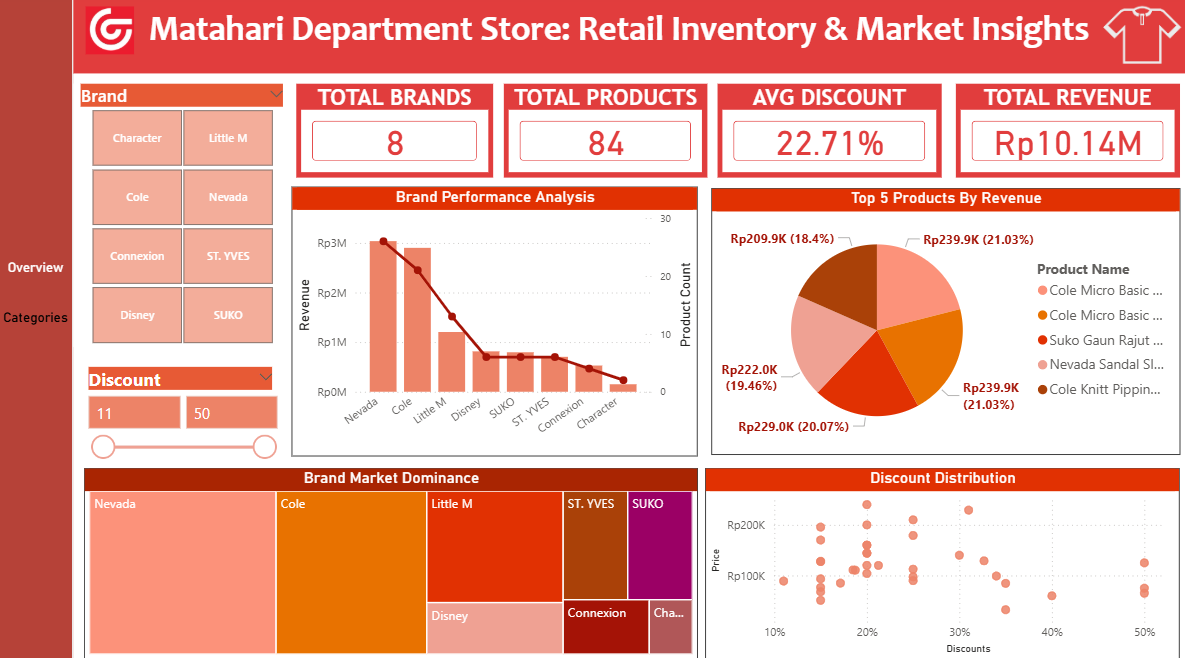

Layout of this report page (visuals, bound fields, positions):
{"tool":"powerbi","page":{"name":"OVERVIEW","canvas":[1280,720],"ordinal":0},"visuals":[{"type":"shape","box":[80.6,0,1198.8,86.3],"z":0},{"type":"textbox","box":[156.9,10.1,1023.2,59],"z":1000},{"type":"image","box":[93.5,10.1,51.8,60.4],"z":2000},{"type":"cardVisual","title":"TOTAL BRANDS","fields":{"Data":["Sum(kpi.total_brands)"]},"box":[319.5,97.9,211.6,100.7],"z":3000},{"type":"cardVisual","title":"TOTAL PRODUCTS","fields":{"Data":["Sum(kpi.total_products)"]},"box":[542.6,97.9,218.7,100.7],"z":4000},{"type":"cardVisual","title":"TOTAL REVENUE","fields":{"Data":["Sum(kpi.total_revenue)"]},"box":[1029,97.9,240.3,100.7],"z":5000},{"type":"cardVisual","title":"AVG DISCOUNT","fields":{"Data":["coda_P0M1_zafirah_aida.Disc yg bener"]},"box":[772.8,97.9,240.3,100.7],"z":6000},{"type":"shape","box":[0,0,80.6,719.6],"z":7000},{"type":"slicer","fields":{"Values":["Analisis Dominasi Pasar.brand"]},"box":[80.6,97.9,233.1,282.1],"z":8000},{"type":"slicer","fields":{"Values":["coda_P0M1_zafirah_aida.diskon"]},"box":[84.9,395.8,223.1,154],"z":9000},{"type":"treemap","title":"Brand Market Dominance","fields":{"Group":["Analisis Dominasi Pasar.brand"],"Values":["Sum(Analisis Dominasi Pasar.market_share_percentage)"]},"box":[92.1,509.5,659.1,205.8],"z":10000},{"type":"lineClusteredColumnComboChart","title":"Brand Performance Analysis","fields":{"Category":["Analisis Dominasi Pasar.brand"],"Y":["Sum(coda_P0M1_zafirah_aida.price)"],"Y2":["Sum(Analisis Dominasi Pasar.product_count)"]},"box":[315.2,207.2,436.1,289.3],"z":11000},{"type":"pieChart","title":"Top 5 Products By Revenue","fields":{"Category":["coda_P0M1_zafirah_aida.product_name"],"Y":["Sum(coda_P0M1_zafirah_aida.price)"]},"box":[765.6,210.1,503.7,286.4],"z":12000},{"type":"scatterChart","title":"Discount Distribution","fields":{"X":["coda_P0M1_zafirah_aida.Disc yg bener"],"Y":["coda_P0M1_zafirah_aida.price"]},"box":[759.9,509.5,509.5,205.8],"z":13000},{"type":"actionButton","title":"Overview","box":[0,285,80.6,40.3],"z":14000},{"type":"actionButton","title":"Categories","box":[0,339.6,80.6,40.3],"z":15000},{"type":"image","box":[1184.4,2.9,86.3,83.5],"z":16000}]}

Visuals, with their boxes in screenshot pixels (x1, y1, x2, y2), scaled from the page's 1280x720 canvas onto the 1185x658 screenshot:
shape: select_region(75, 0, 1184, 79)
textbox: select_region(145, 9, 1093, 63)
image: select_region(87, 9, 135, 64)
"TOTAL BRANDS" cardVisual: select_region(296, 89, 492, 181)
"TOTAL PRODUCTS" cardVisual: select_region(502, 89, 705, 181)
"TOTAL REVENUE" cardVisual: select_region(953, 89, 1175, 181)
"AVG DISCOUNT" cardVisual: select_region(715, 89, 938, 181)
shape: select_region(0, 0, 75, 657)
slicer - Analisis Dominasi Pasar.brand: select_region(75, 89, 290, 347)
slicer - coda_P0M1_zafirah_aida.diskon: select_region(79, 362, 285, 502)
"Brand Market Dominance" treemap: select_region(85, 466, 695, 654)
"Brand Performance Analysis" lineClusteredColumnComboChart: select_region(292, 189, 696, 454)
"Top 5 Products By Revenue" pieChart: select_region(709, 192, 1175, 454)
"Discount Distribution" scatterChart: select_region(704, 466, 1175, 654)
"Overview" actionButton: select_region(0, 260, 75, 297)
"Categories" actionButton: select_region(0, 310, 75, 347)
image: select_region(1096, 3, 1176, 79)
